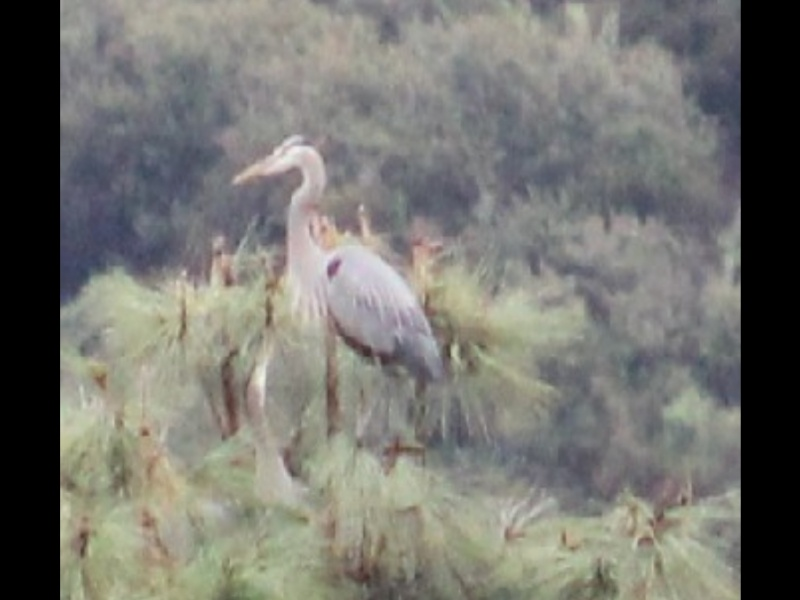heron: (232, 134, 447, 453)
